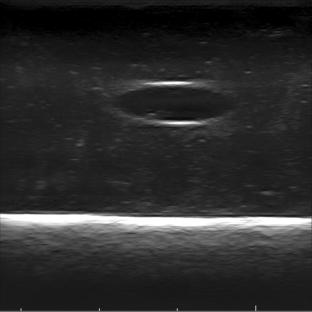vessel: (114, 80, 236, 128)
